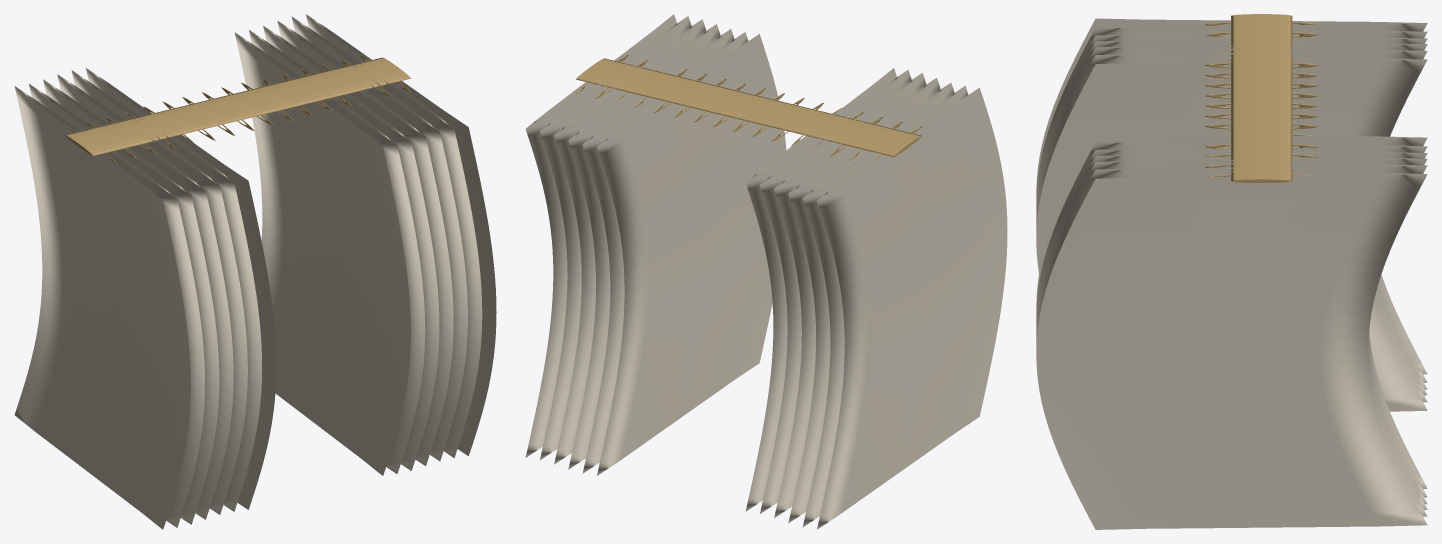
The model's file is studio-curtain-linen.glb.
3 views of the same model, side by side, from view 1: azimuth 30°, elevation 25°; view 2: azimuth 150°, elevation 25°; view 3: azimuth 270°, elevation 25° (orthographic). The views are drawn at different scales.
Parts seen in each view (by area): view 1: part (×2); view 2: part (×2); view 3: part (×2).
Part boxes in pixels (<box>): part (×2): <box>14,14,496,529</box>; part (×2): <box>525,14,1007,529</box>; part (×2): <box>1036,14,1427,529</box>.
Bounding box in the file's own units: 1 × 1 × 1.
